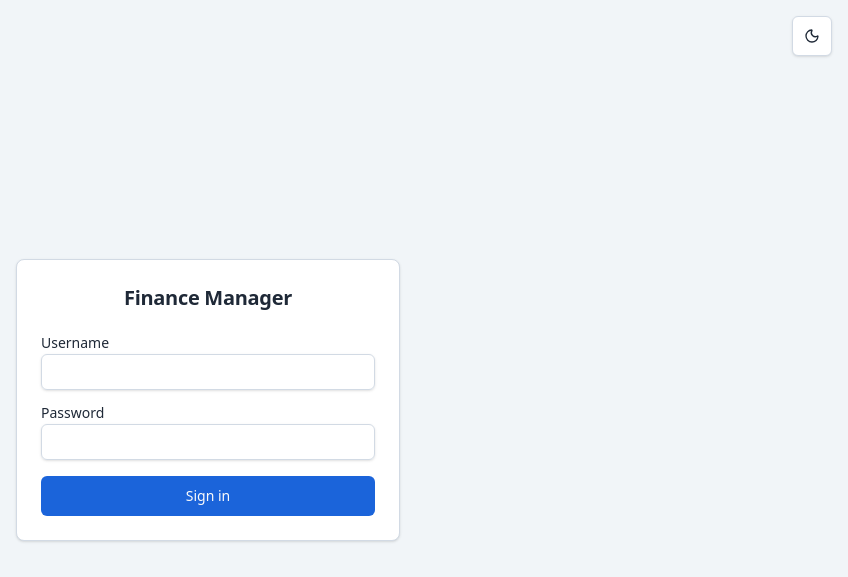
Test: LoginPage — 401 invalid credentials (Req 1.2) › displays generic "Invalid credentials" message on 401
The width and height of the screenshot is (848, 577).
Type "admin" into the field labelled "Username" at point(208, 372), box [41,354,375,390]
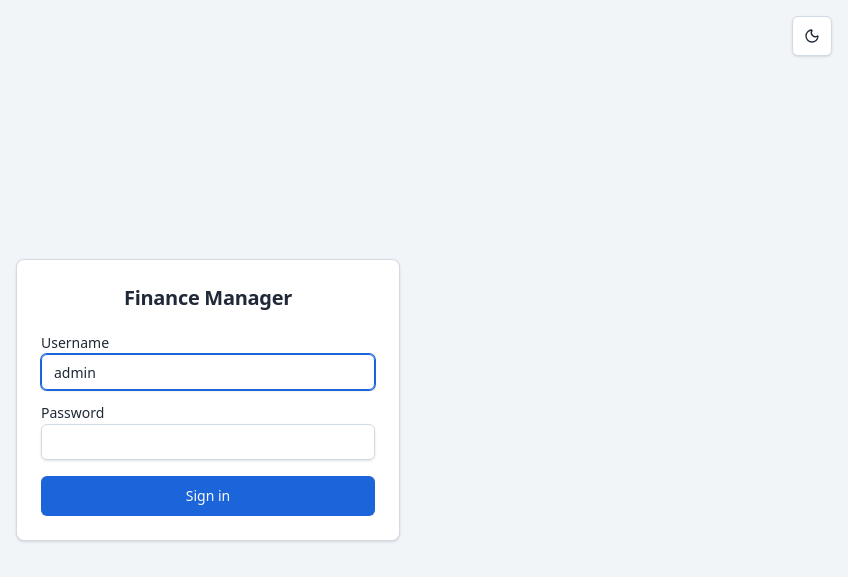
Type "SecurePass1" into the password field labelled "Password" at point(208, 442), box [41,424,375,460]
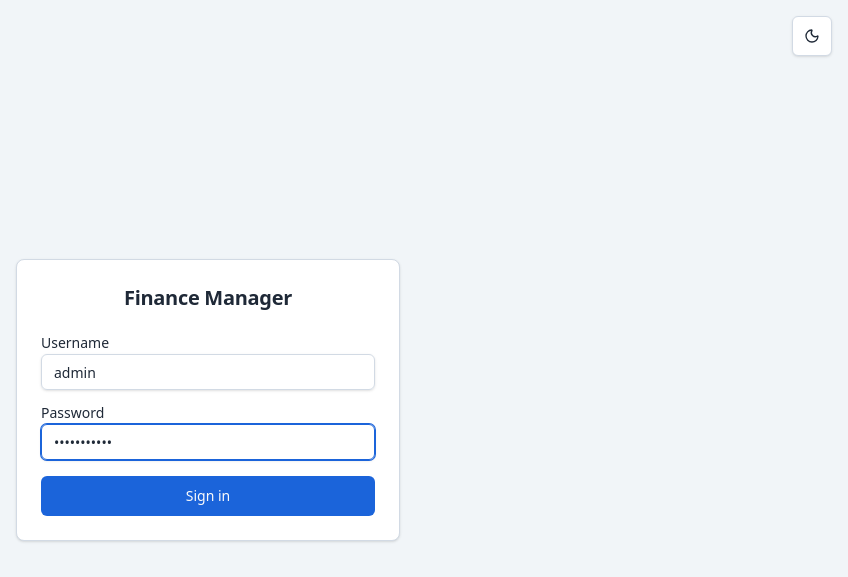
Click the button "Sign in" at point(208, 496), box [41,476,375,516]
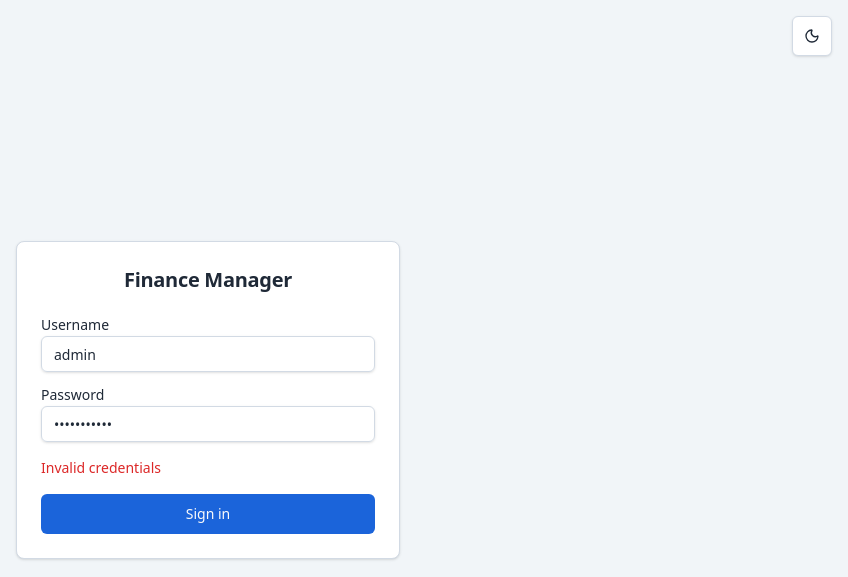
Result: the text "Invalid credentials" is shown at [41,458,161,477]
